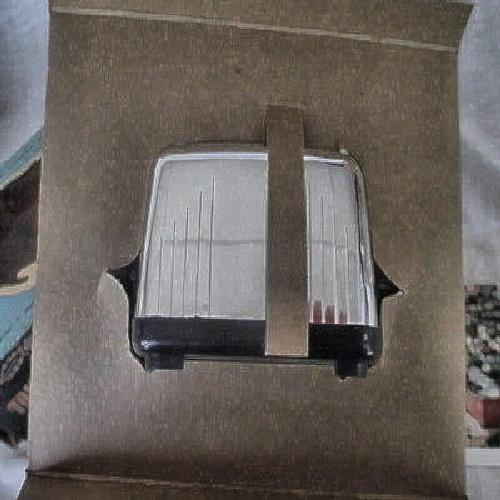toaster: (117, 128, 405, 388)
